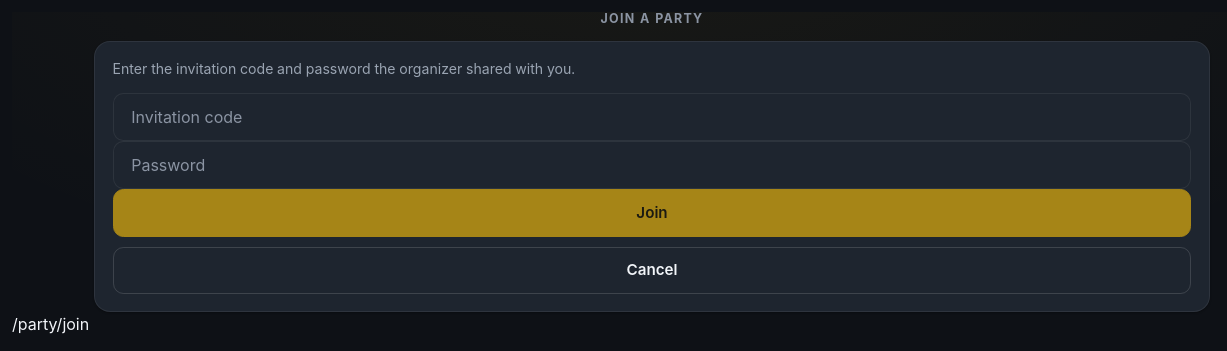
Test: keeps Join disabled until both fields are filled
expect the button "Join" is disabled: met, box 113,190 -> 1191,237
Type "K7X9-QP2M" into the field with placeholder "Invitation code" at {"x": 652, "y": 118}, box 113,94 -> 1191,142
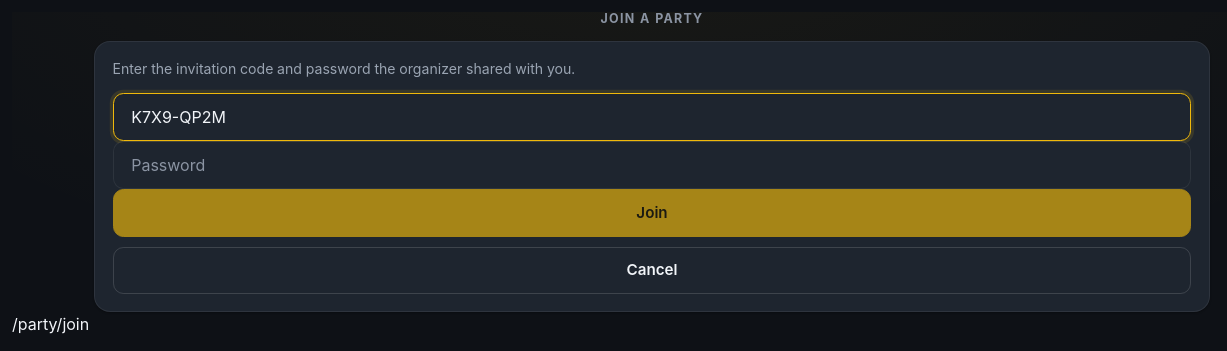
expect the button "Join" is disabled: met, box 113,190 -> 1191,237
Type "invite-pass" into the password field with placeholder "Password" at {"x": 652, "y": 166}, box 113,142 -> 1191,190
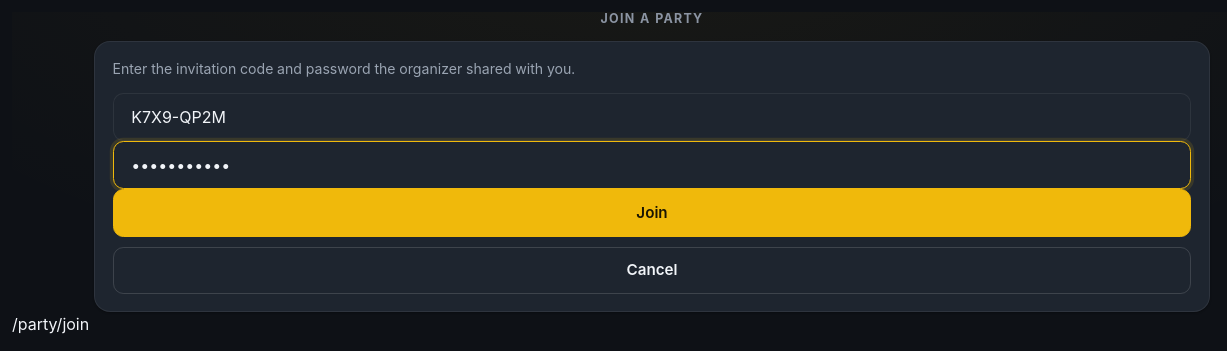
expect the button "Join" is enabled: met, box 113,190 -> 1191,237
